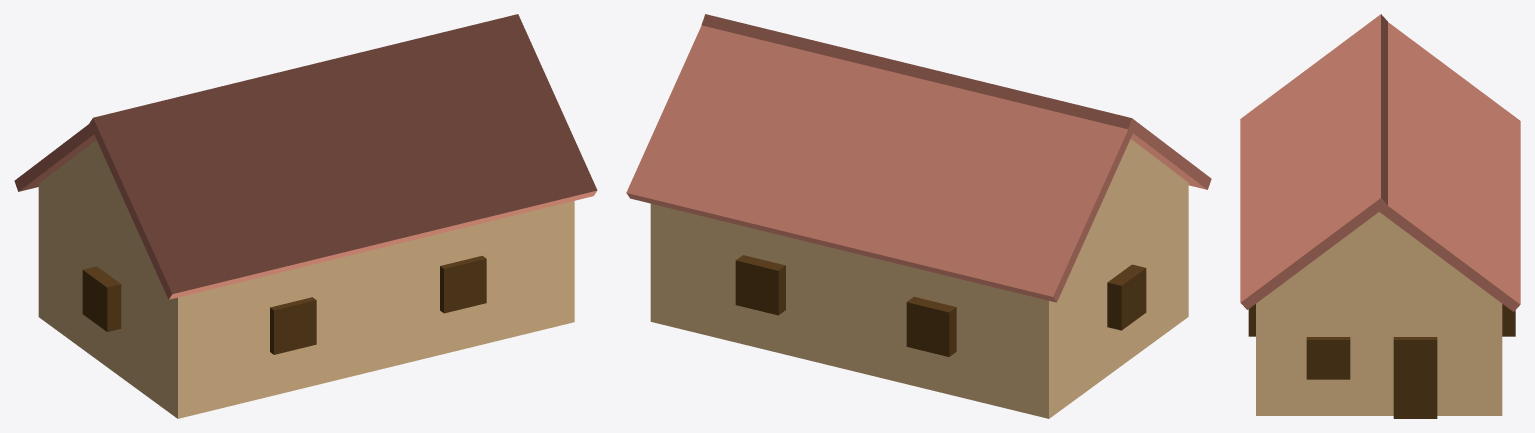
Rendered from house.obj.
The picture shows the model from 3 angles, left to right: view 1: azimuth 30°, elevation 25°; view 2: azimuth 150°, elevation 25°; view 3: azimuth 270°, elevation 25°; orthographic projection. The views are drawn at different scales.
Visible parts, largest first — view 1: mesh777679980; view 2: mesh777679980; view 3: mesh777679980.
Boxes of the visible parts, x1,y1,x2,y2 form: mesh777679980: (14,14,597,418); mesh777679980: (626,14,1211,418); mesh777679980: (1240,14,1520,418).
Bounding box in the file's own units: 1 × 0.5687 × 0.6437.
